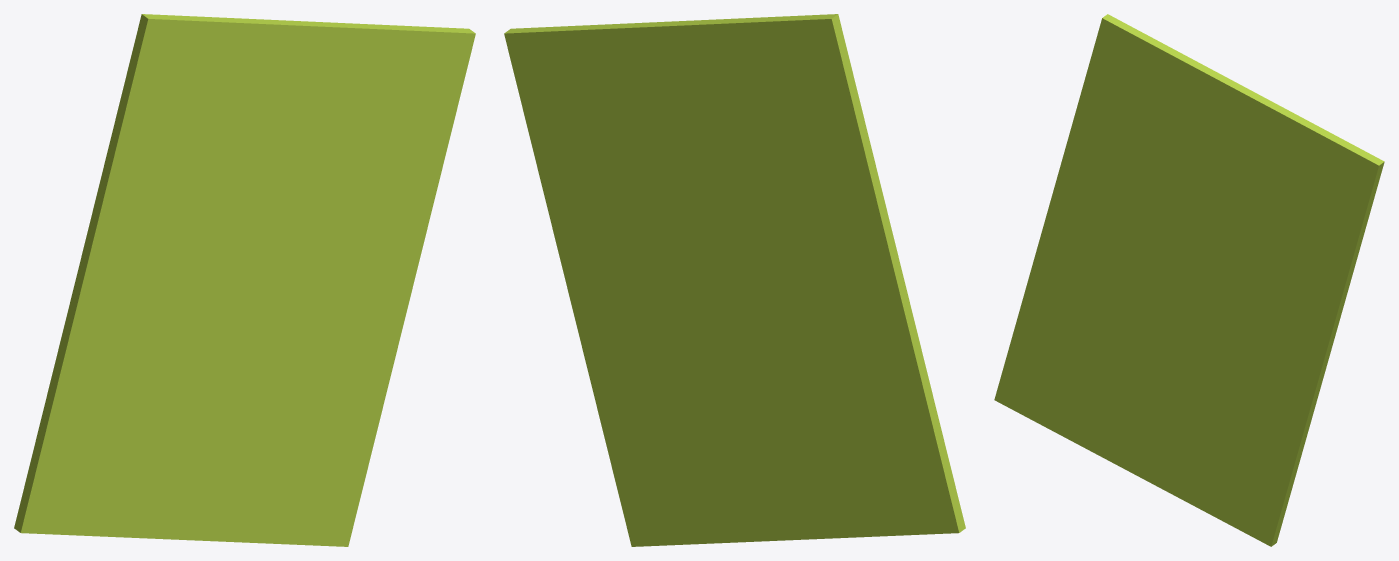
3 renders of one model, left to right at view 1: azimuth 30°, elevation 25°; view 2: azimuth 150°, elevation 25°; view 3: azimuth 330°, elevation 25°, orthographic. The views are drawn at different scales.
Parts seen in each view (by area): view 1: osm-way27917482-F-1; view 2: osm-way27917482-F-1; view 3: osm-way27917482-F-1.
Part boxes in pixels (box(x1,y1,x2,y2)): osm-way27917482-F-1: box(14, 14, 475, 546); osm-way27917482-F-1: box(504, 14, 965, 546); osm-way27917482-F-1: box(994, 14, 1384, 546).
Bounding box in the file's own units: 5.93 × 7.18 × 0.15.
